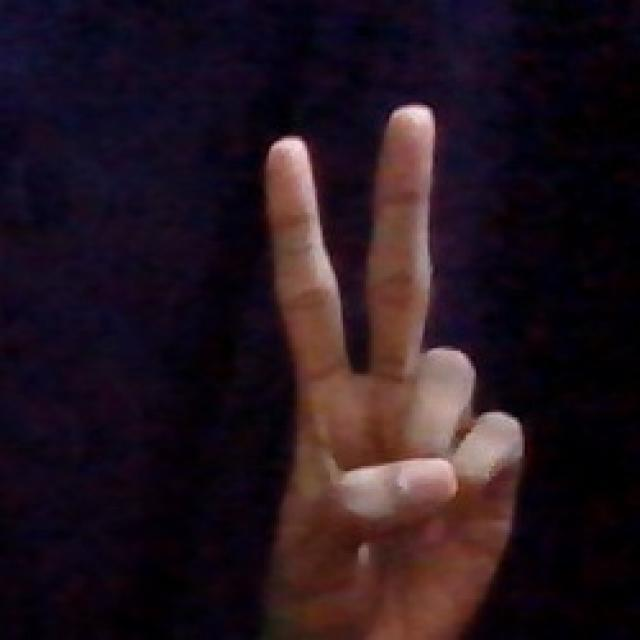Numeric-2: (269, 96, 522, 622)
